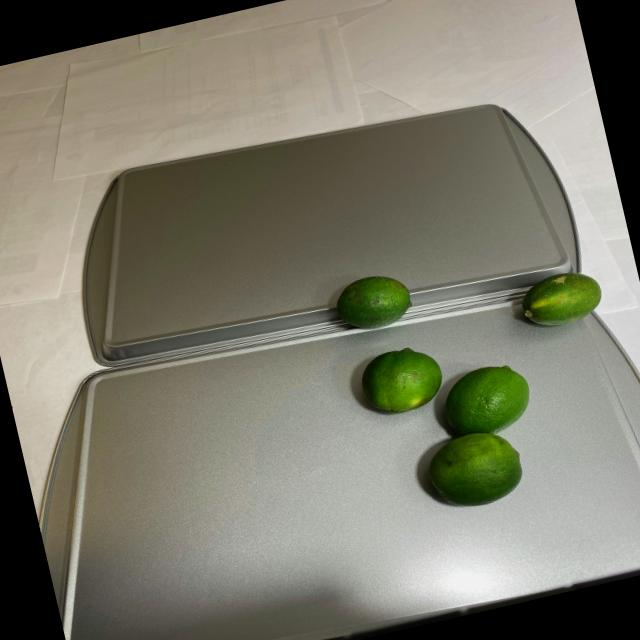lemon: (319, 239, 551, 531), (512, 266, 609, 331)
